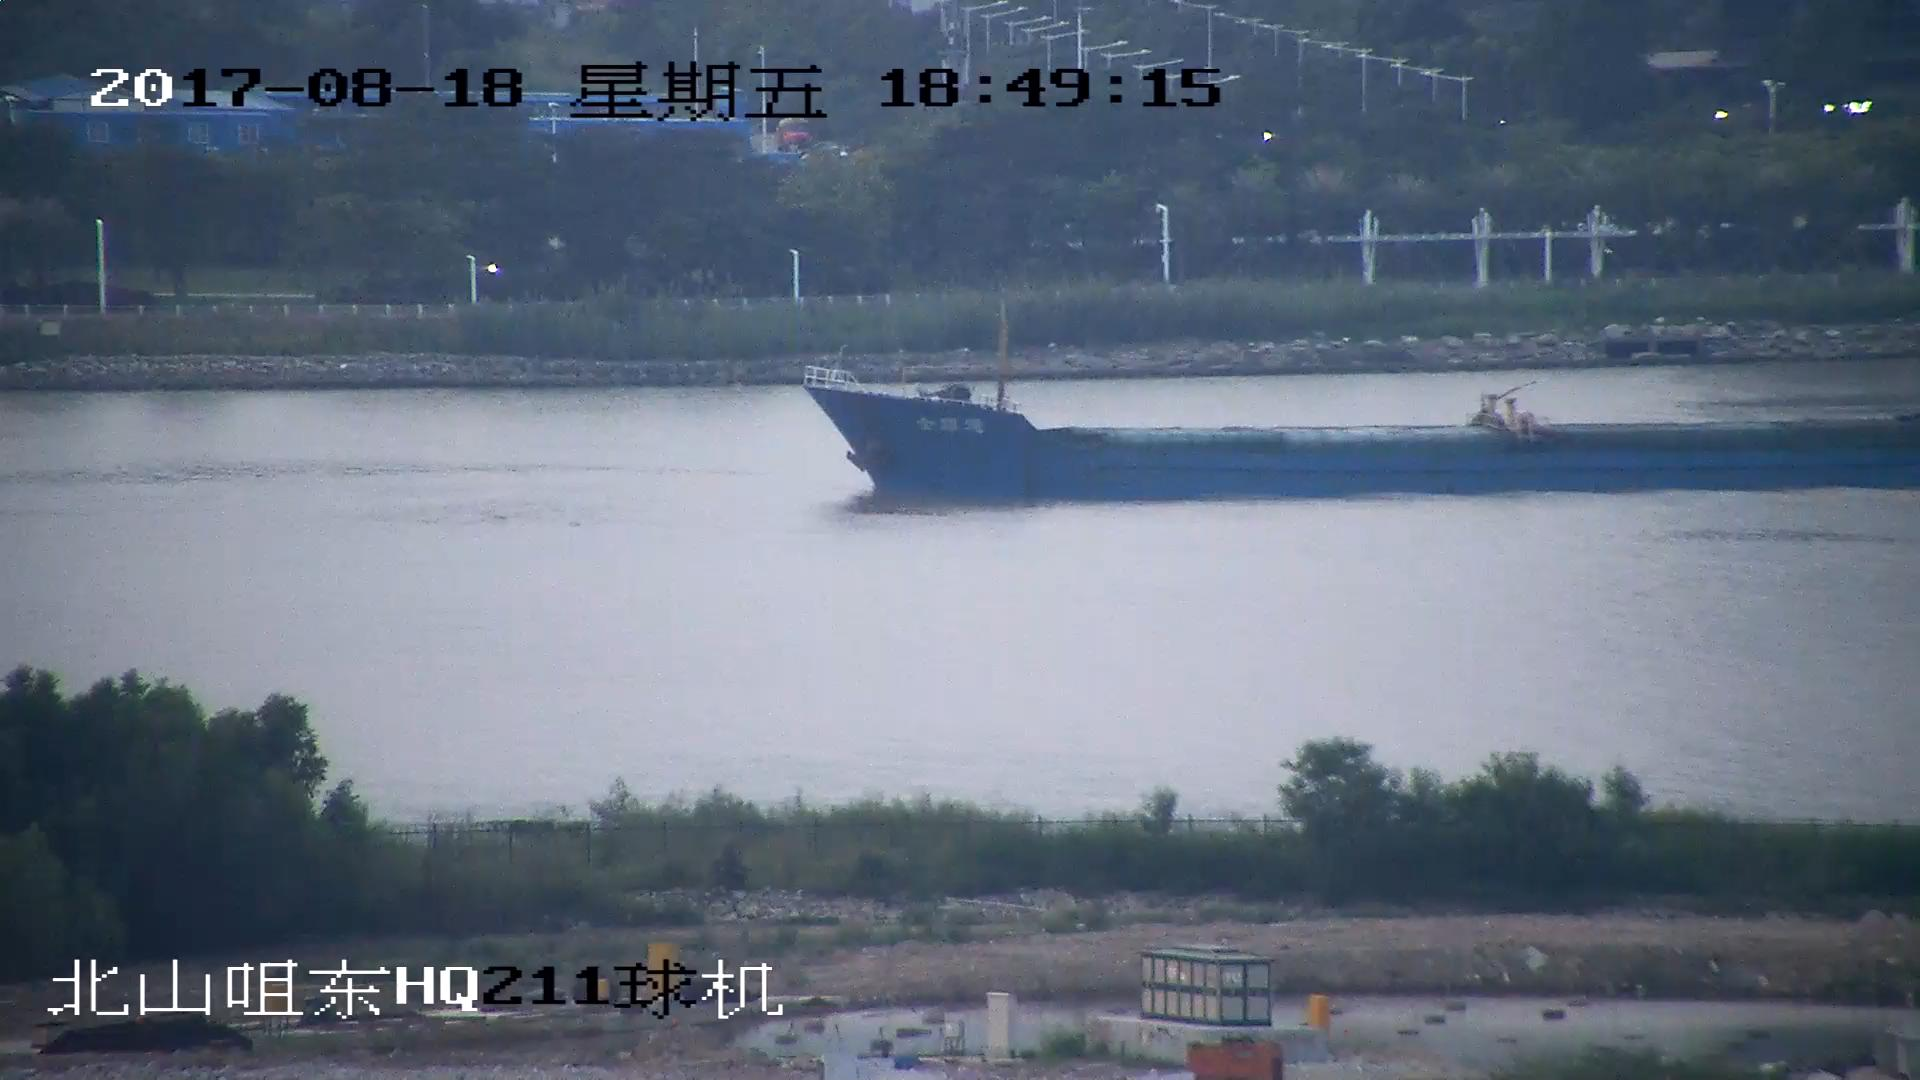general cargo ship: (801, 365, 1920, 495)
